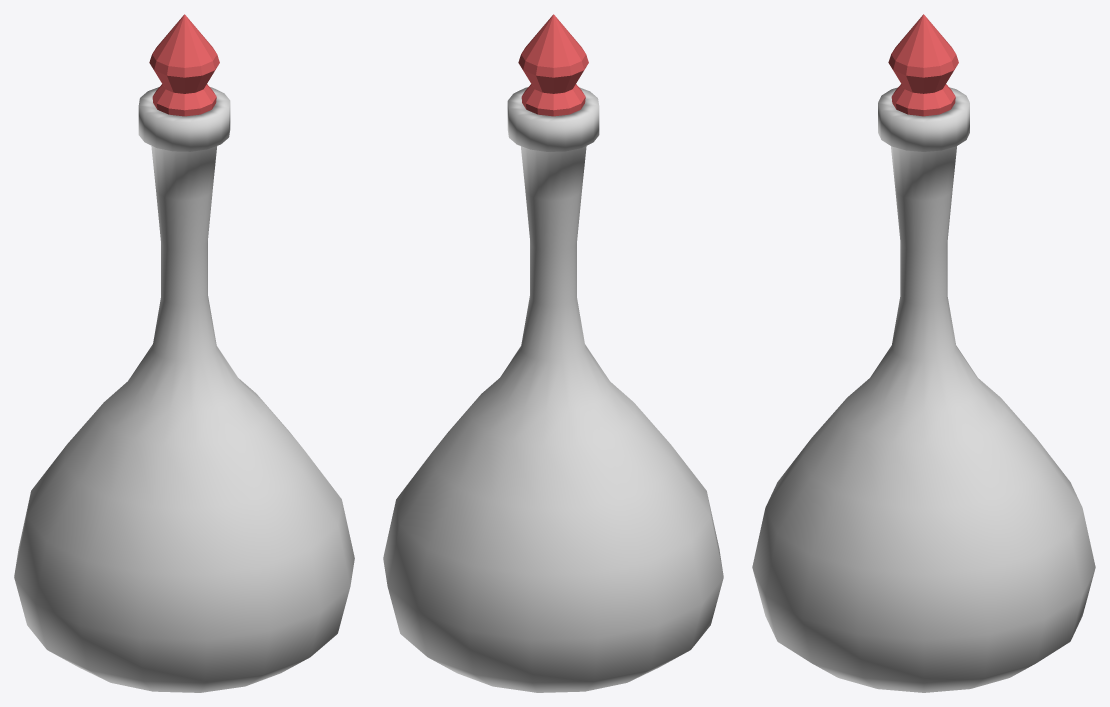
File: potion.glb
3 renders of one model, left to right at view 1: azimuth 30°, elevation 25°; view 2: azimuth 150°, elevation 25°; view 3: azimuth 270°, elevation 25°, orthographic.
Visible parts, largest first — view 1: Sphere.003; view 2: Sphere.003; view 3: Sphere.003.
Part boxes in pixels (x1,y1,x2,y2): Sphere.003: (14,14,354,692); Sphere.003: (383,14,723,692); Sphere.003: (752,14,1095,692).
Size of the model in its own units: 0.1063 by 0.2168 by 0.1063.
